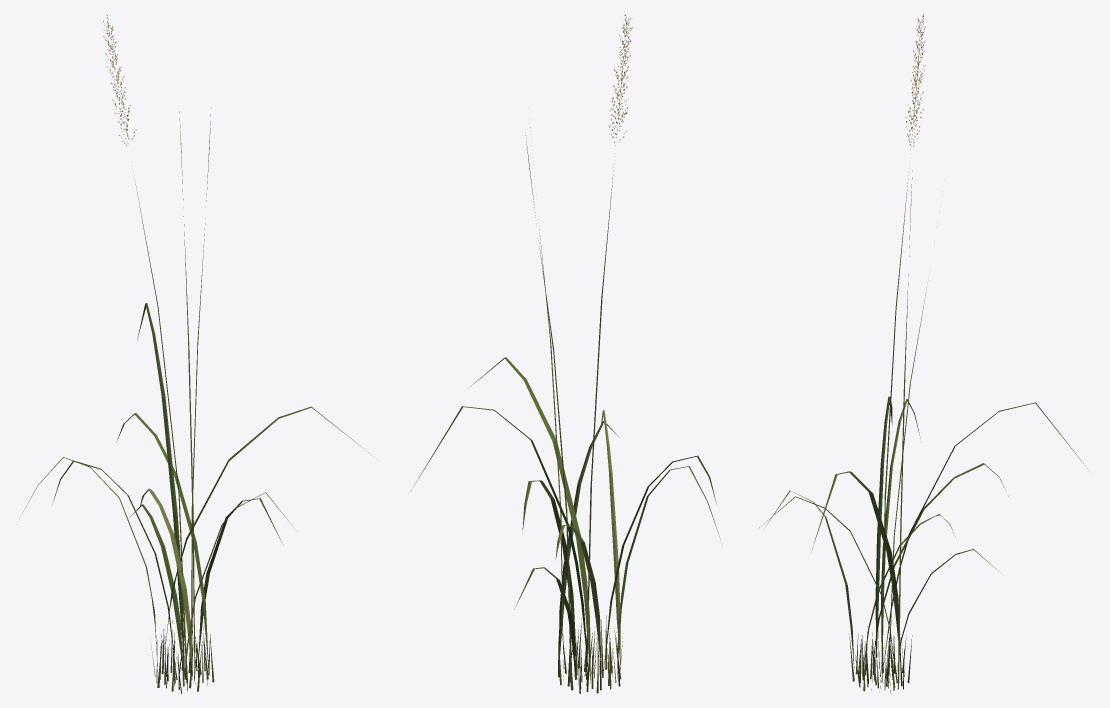
The model's file is feather-reed-grass.glb.
The picture shows the model from 3 angles, left to right: view 1: azimuth 30°, elevation 25°; view 2: azimuth 150°, elevation 25°; view 3: azimuth 270°, elevation 25°; orthographic projection. The views are drawn at different scales.
Visible parts, largest first — view 1: feather-reed-grass; view 2: feather-reed-grass; view 3: feather-reed-grass.
Boxes of the visible parts, x1,y1,x2,y2 form: feather-reed-grass: [20, 15, 368, 693]; feather-reed-grass: [410, 14, 720, 693]; feather-reed-grass: [759, 14, 1087, 693].
Size of the model in its own units: 0.482 by 0.9977 by 0.483.
